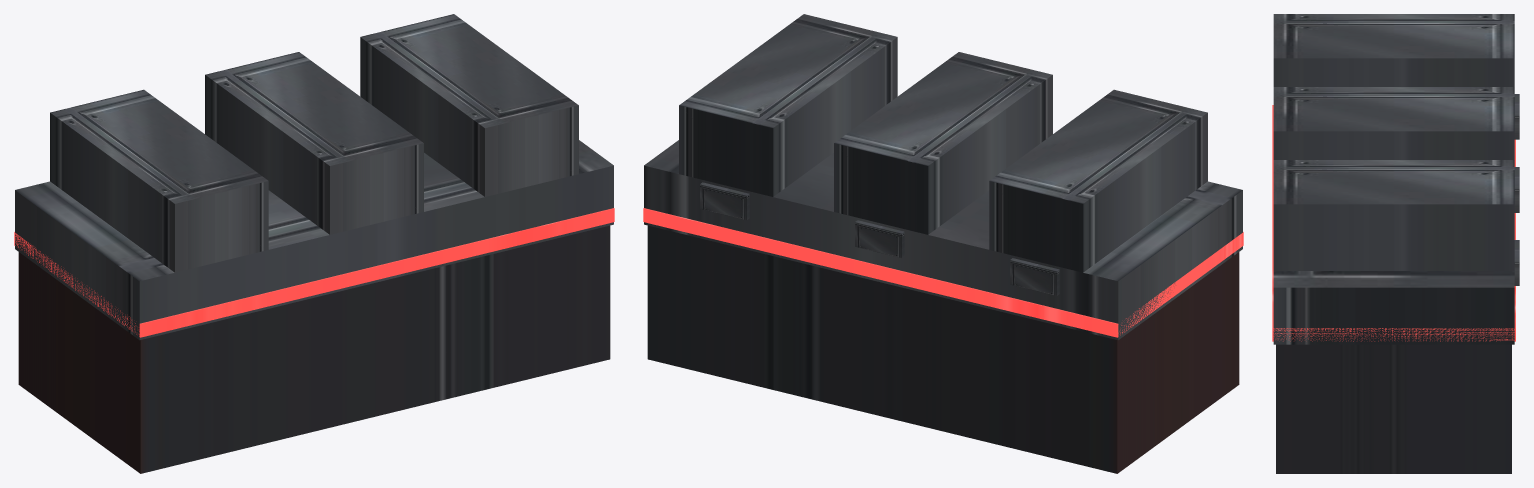
File: crimson_wall_segment.glb
The picture shows the model from 3 angles, left to right: view 1: azimuth 30°, elevation 25°; view 2: azimuth 150°, elevation 25°; view 3: azimuth 270°, elevation 25°; orthographic projection. The views are drawn at different scales.
Parts seen in each view (by area): view 1: CrimsonWallSegment; view 2: CrimsonWallSegment; view 3: CrimsonWallSegment.
Part boxes in pixels (x1,y1,x2,y2): CrimsonWallSegment: (14, 14, 614, 473); CrimsonWallSegment: (643, 14, 1243, 473); CrimsonWallSegment: (1272, 14, 1519, 473).
Bounding box in the file's own units: 2.02 × 1.07 × 0.945.
3 materials, 3 textured.
